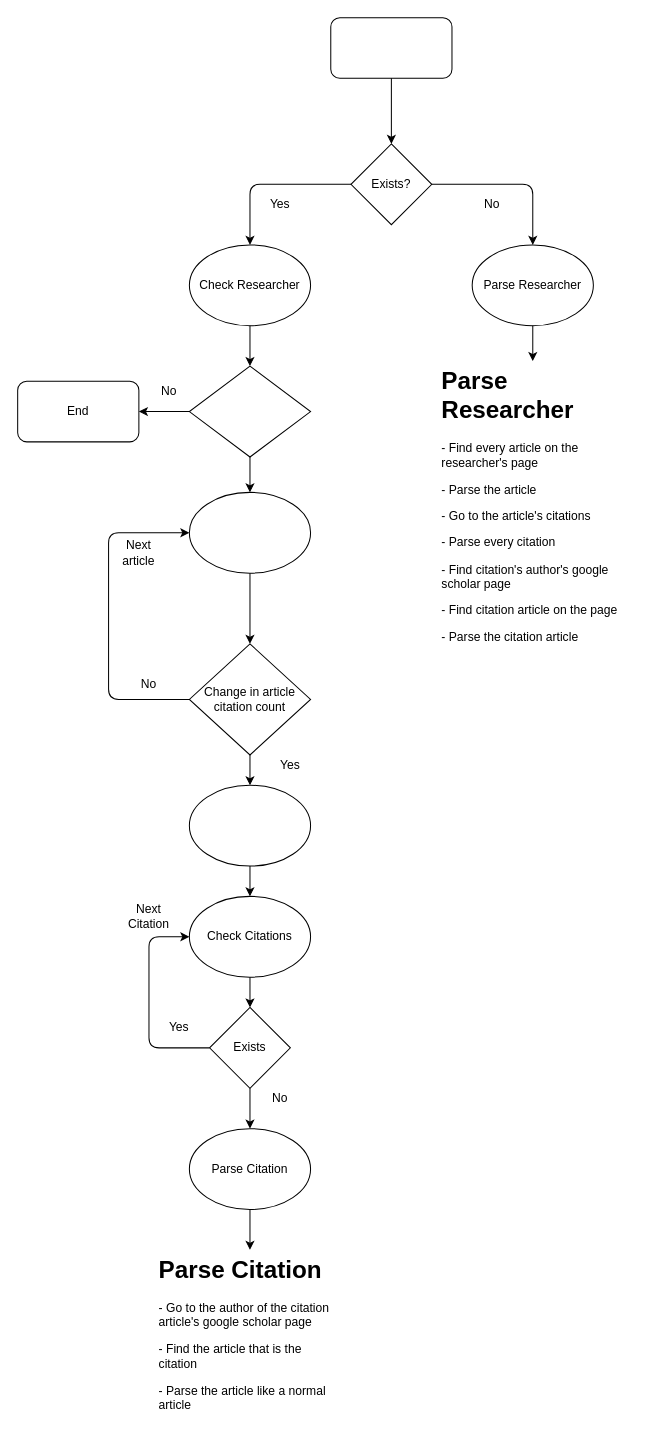
Some shapes in this 646 by 1449 pixel diagram are drawn without their labels. Here are the shapes that lost their labels. From the top down, the centre of each, then its label:
point 391,47: Start
point 249,411: Change in Citation Count
point 249,532: Check Articles
point 249,825: Parse Article
